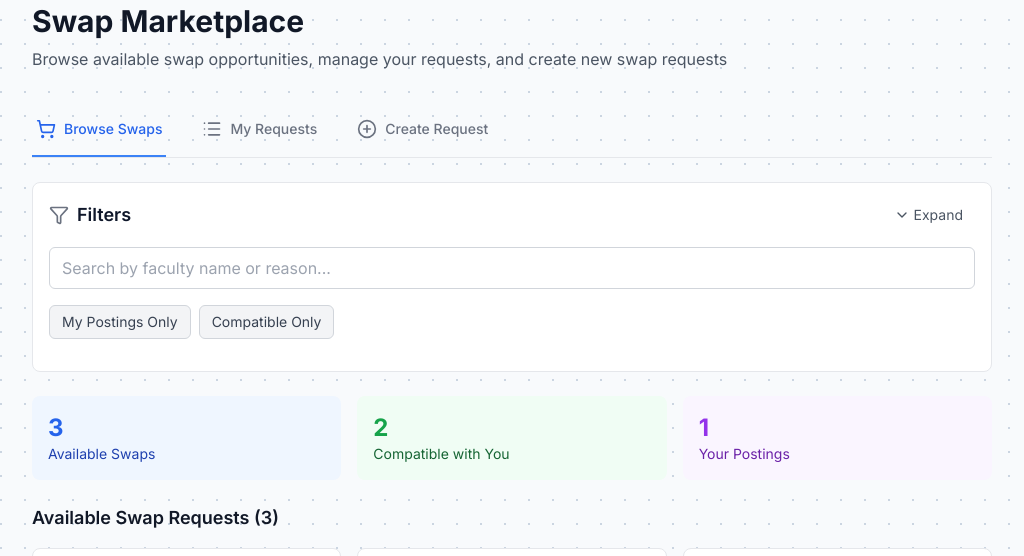
Scenario: SwapMarketplace › Create Request Tab › should navigate to My Requests tab after successful form submission
# Navigate to create tab
Click the tab with aria-label "Create a new swap" at x=423, y=130, box 353,103 -> 492,157
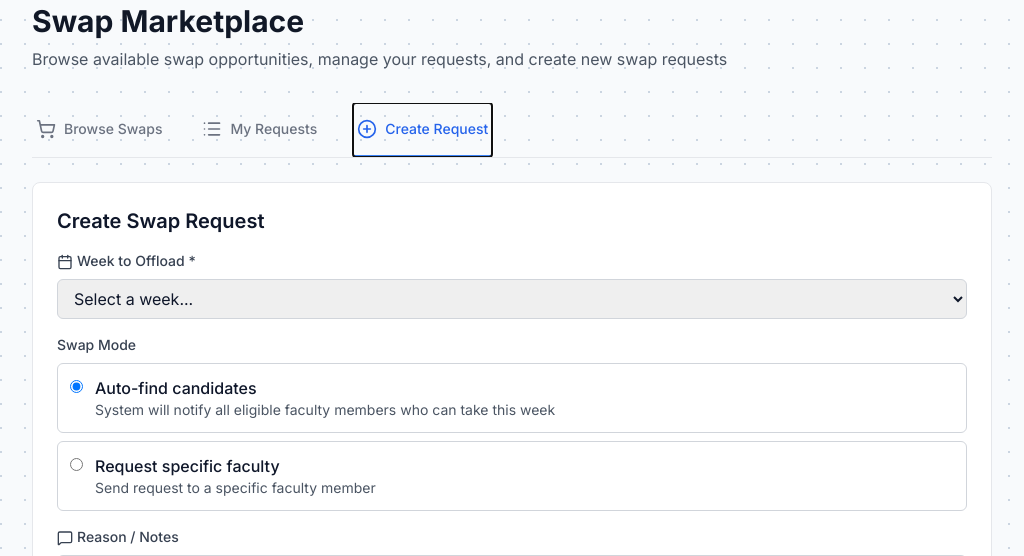
# Fill and submit form - use role selector instead of label
Select "Jul 1, 2025" in the dropdown at x=512, y=299, box 57,279 -> 967,319
(page scrolled)
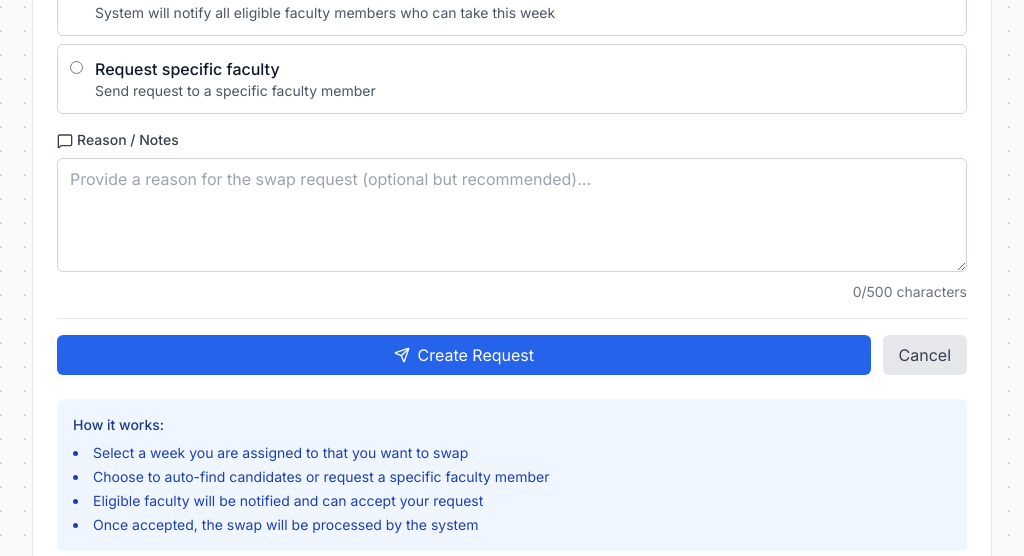
# Find submit button - there are multiple "create request" buttons (tabs + form)
Click the button "Create Request" at x=464, y=355, box 57,335 -> 870,375
(page scrolled)
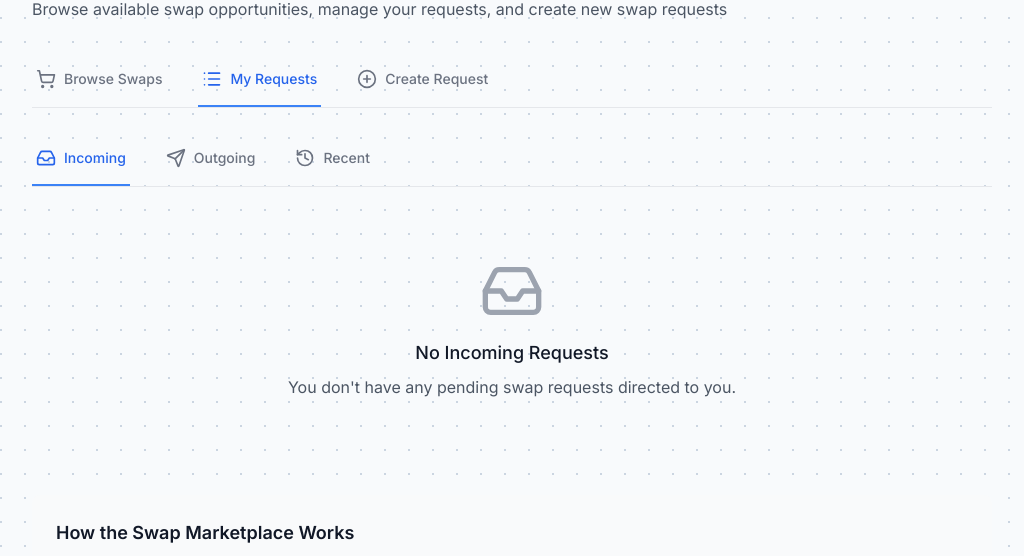
Result: the tab "Incoming" is shown at 32,132 -> 130,186
